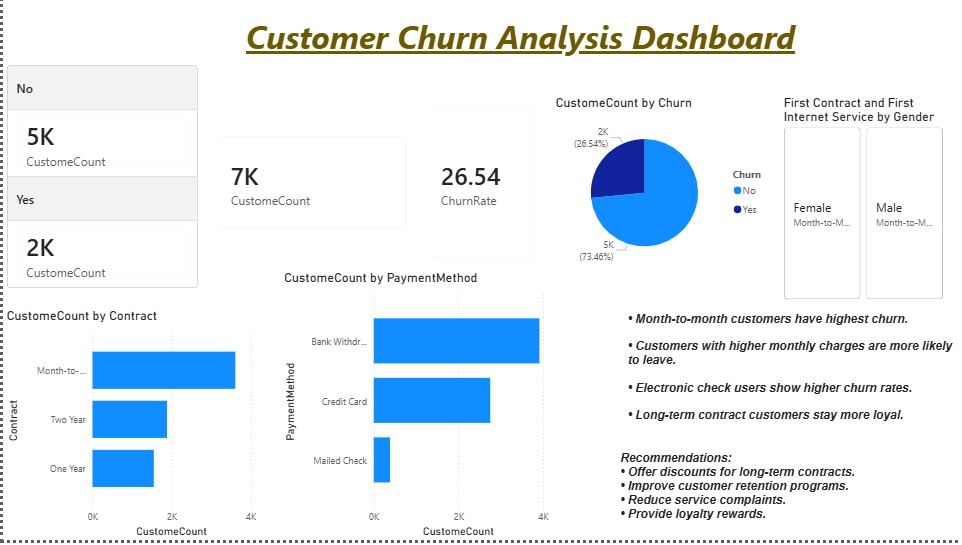

This screenshot's page, from the dashboard's own definition file:
{"tool":"powerbi","page":{"name":"Page 1","canvas":[1280,720],"ordinal":0},"visuals":[{"type":"cardVisual","fields":{"Data":["cleaned_churn_data.CustomeCount"]},"box":[0,0,280.1,344.9],"z":0},{"type":"cardVisual","fields":{"Data":["cleaned_churn_data.CustomeCount"],"Rows":["cleaned_churn_data.Churn"]},"box":[140.9,0,263.9,344.9],"z":1000},{"type":"cardVisual","fields":{"Data":["cleaned_churn_data.ChurnRate"]},"box":[325.5,0,170,233.2],"z":2000},{"type":"pieChart","fields":{"Category":["cleaned_churn_data.Churn"],"Y":["cleaned_churn_data.CustomeCount"]},"box":[500,14,304,346],"z":3000},{"type":"clusteredBarChart","fields":{"Category":["cleaned_churn_data.Contract"],"Y":["cleaned_churn_data.CustomeCount"]},"box":[0,354,342,366],"z":4000},{"type":"barChart","fields":{"Category":["cleaned_churn_data.PaymentMethod"],"Y":["cleaned_churn_data.CustomeCount"]},"box":[370,360,362,360],"z":5000},{"type":"advancedSlicerVisual","fields":{"Values":["cleaned_churn_data.Gender"],"Label":["Min(cleaned_churn_data.Contract)"]},"box":[828,14,222,278],"z":5001},{"type":"textbox","box":[828,308,452,184],"z":5002},{"type":"textbox","box":[818,492,462,124],"z":5003}]}

Visuals, with their boxes in screenshot pixels (x1, y1, x2, y2), scaled from the page's 1280x720 canvas onto the 962x545 screenshot:
cardVisual - cleaned_churn_data.CustomeCount: left=0, top=0, right=211, bottom=261
cardVisual - cleaned_churn_data.CustomeCount x cleaned_churn_data.Churn: left=106, top=0, right=304, bottom=261
cardVisual - cleaned_churn_data.ChurnRate: left=245, top=0, right=372, bottom=177
pieChart - cleaned_churn_data.Churn x cleaned_churn_data.CustomeCount: left=376, top=11, right=604, bottom=272
clusteredBarChart - cleaned_churn_data.Contract x cleaned_churn_data.CustomeCount: left=0, top=268, right=257, bottom=544
barChart - cleaned_churn_data.PaymentMethod x cleaned_churn_data.CustomeCount: left=278, top=272, right=550, bottom=544
advancedSlicerVisual - cleaned_churn_data.Gender x Min(cleaned_churn_data.Contract): left=622, top=11, right=789, bottom=221
textbox: left=622, top=233, right=961, bottom=372
textbox: left=615, top=372, right=961, bottom=466
